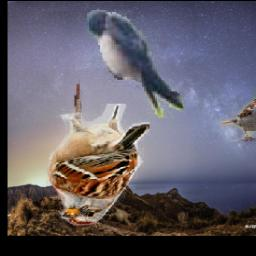Sparrow: (46, 105, 150, 227), (222, 73, 256, 141)
Swallow: (87, 10, 184, 118)
